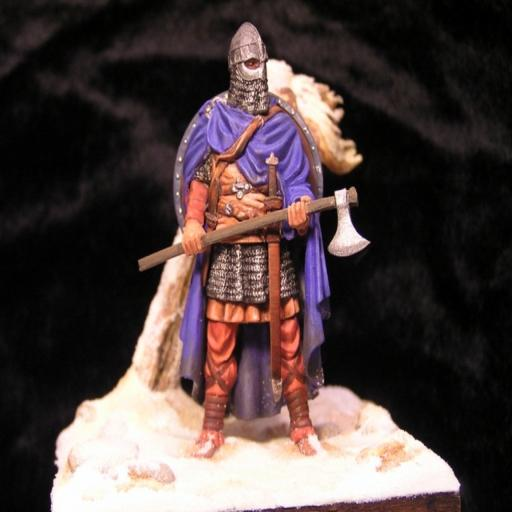Axe: (139, 182, 370, 264)
